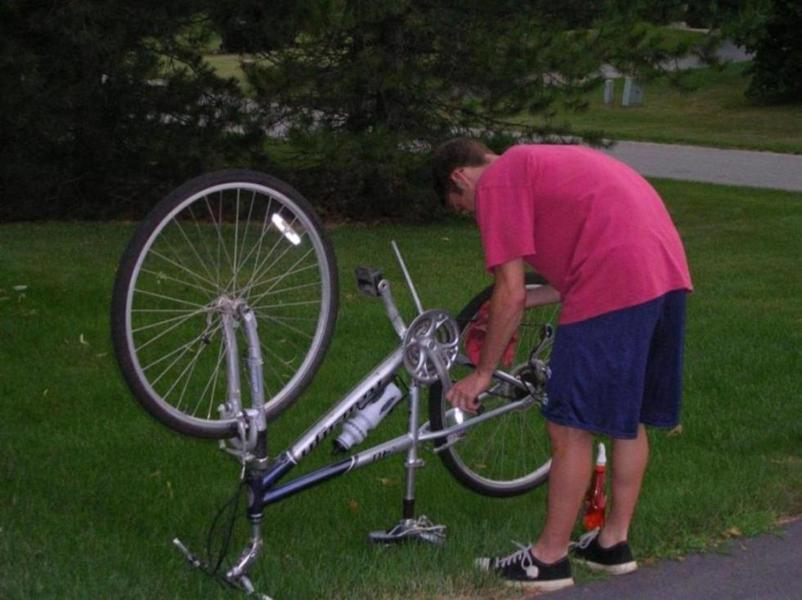person: (432, 135, 696, 593)
